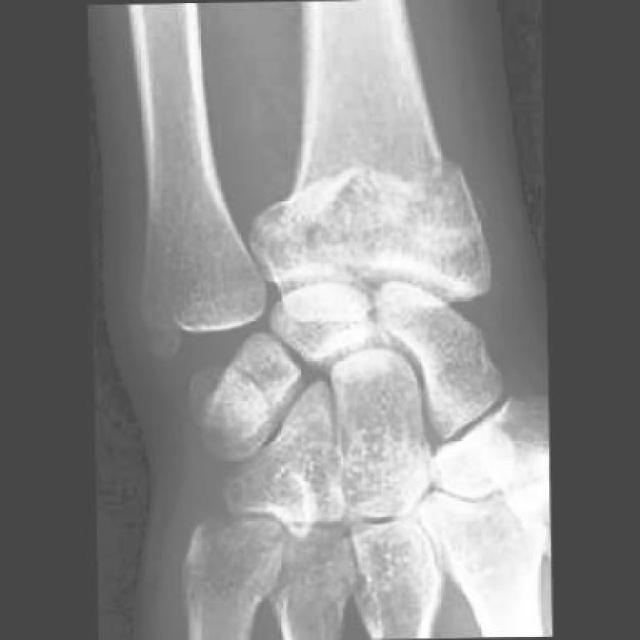Fracture: (240, 143, 486, 254)
